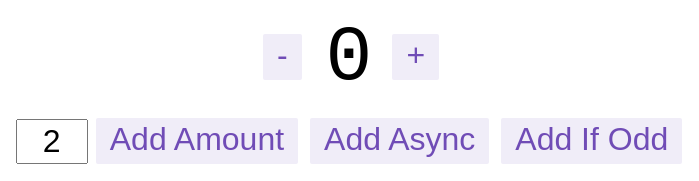
it: Minus button › should decrement the counter
expect the element with test id "base-counter" shows "0": met, box [326,14,372,102]
Click the button "-".
click(282, 57)  # box [263,34,302,80]
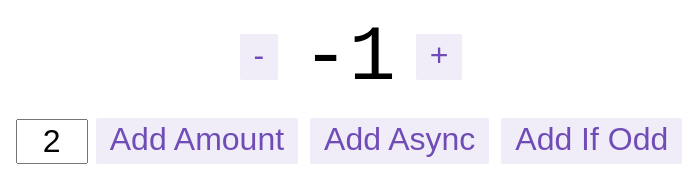
expect the element with test id "base-counter" shows "-1": met, box [302,14,396,102]
